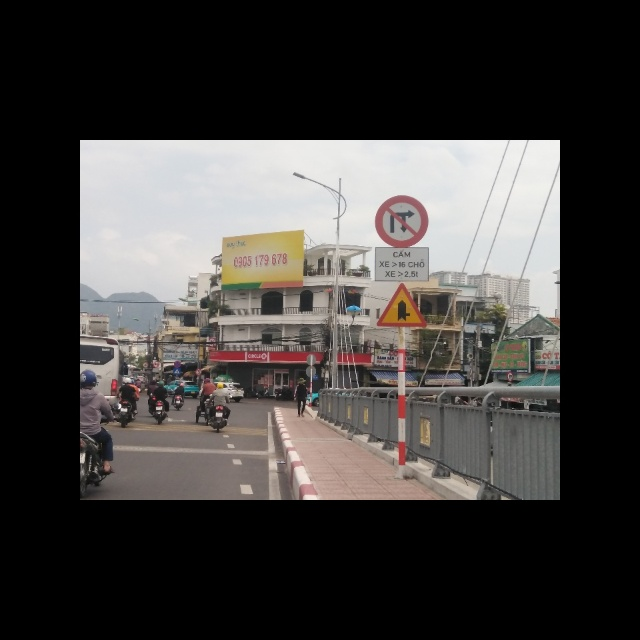Cấm quay đầu và rẽ phải: (374, 194, 428, 247)
Giao nhau với đường không ưu tiên: (376, 282, 428, 327)
